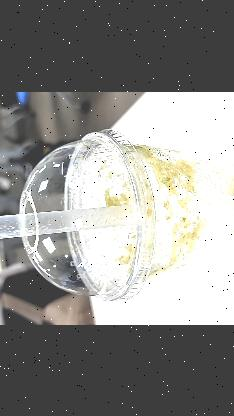Others: (16, 127, 234, 303), (17, 123, 155, 304), (0, 205, 138, 247)
